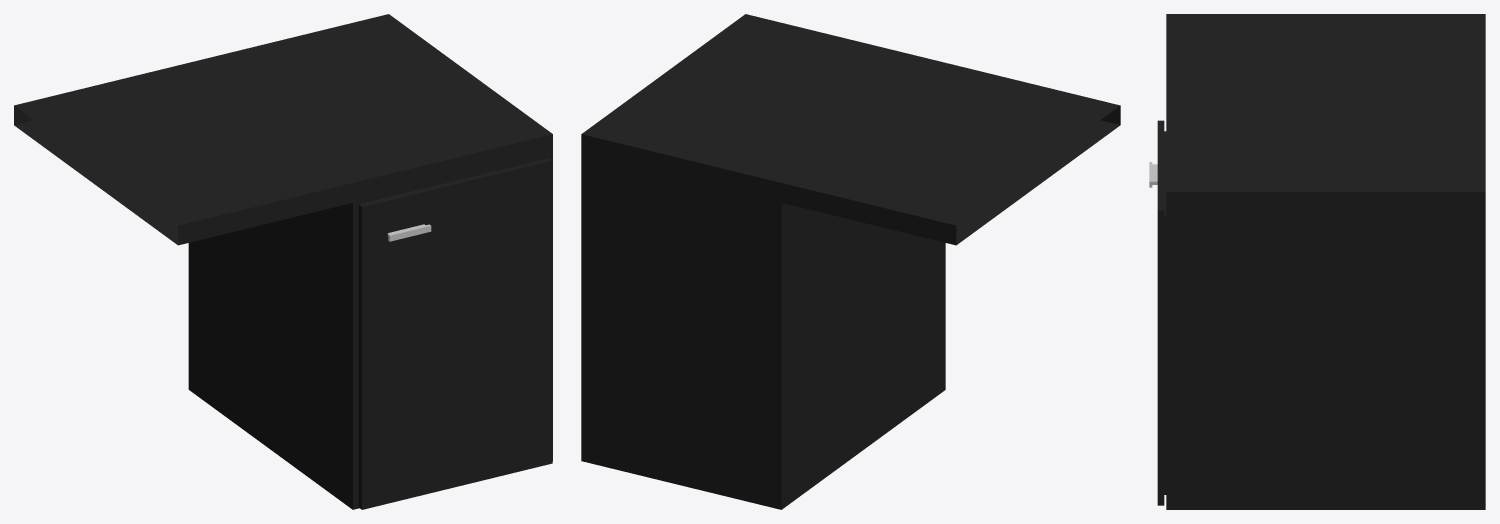
File: desk.gltf
3 views of the same model, side by side, from view 1: azimuth 30°, elevation 25°; view 2: azimuth 150°, elevation 25°; view 3: azimuth 270°, elevation 25° (orthographic). The views are drawn at different scales.
Visible parts, largest first — view 1: Cube; view 2: Cube; view 3: Cube.
Part boxes in pixels (x1=…): Cube: x1=14, y1=14, x2=552, y2=509; Cube: x1=581, y1=14, x2=1120, y2=509; Cube: x1=1149, y1=14, x2=1485, y2=509.
Size of the model in its own units: 0.8019 by 0.6685 by 0.641.
Materials: 1 (1 with a texture image).
